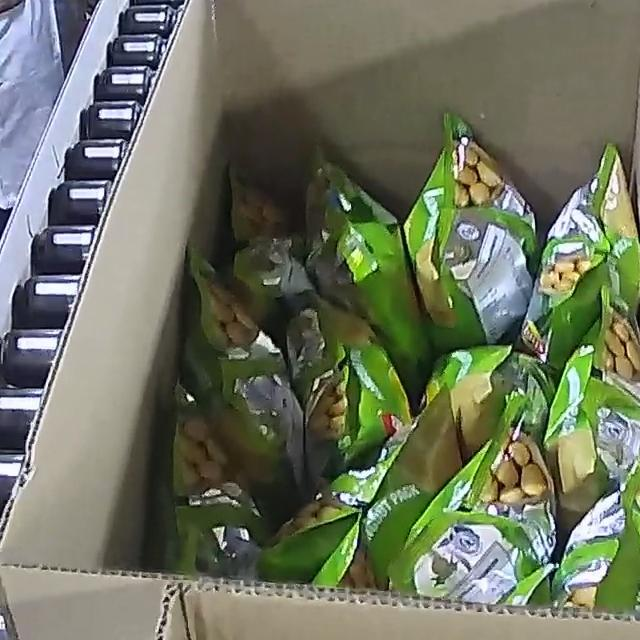yogurt: (167, 110, 640, 614)
